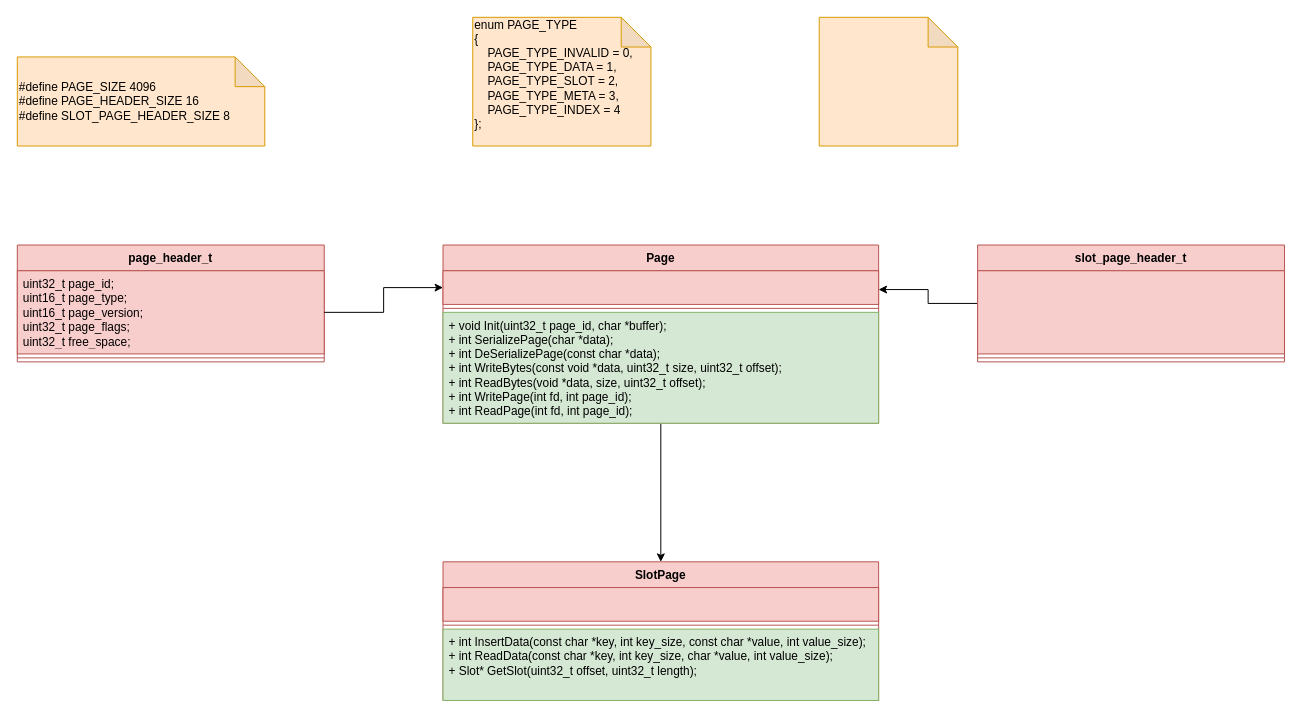
The diagram is 1302 pixels wide and 721 high, and some of its shapes have lost their labels. Each missing label, with the centre of its shape:
"+ char *m_data;" belongs at point 660,287.
"+ Page m_page" belongs at point 660,604.
"typedef struct slot_st{ uint32_t offset; uint32_t length; }slot_t;" belongs at point 888,81.
"uint32_t slot_count; uint16_t upper; uint16_t lower;" belongs at point 1131,312.
